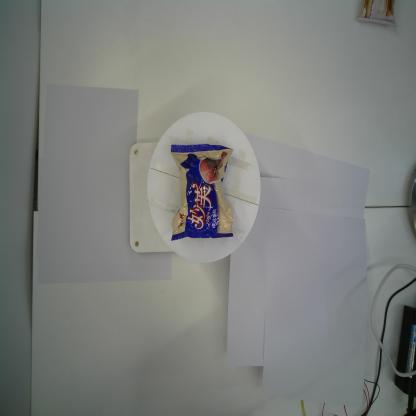Dessert: (170, 144, 234, 242)
